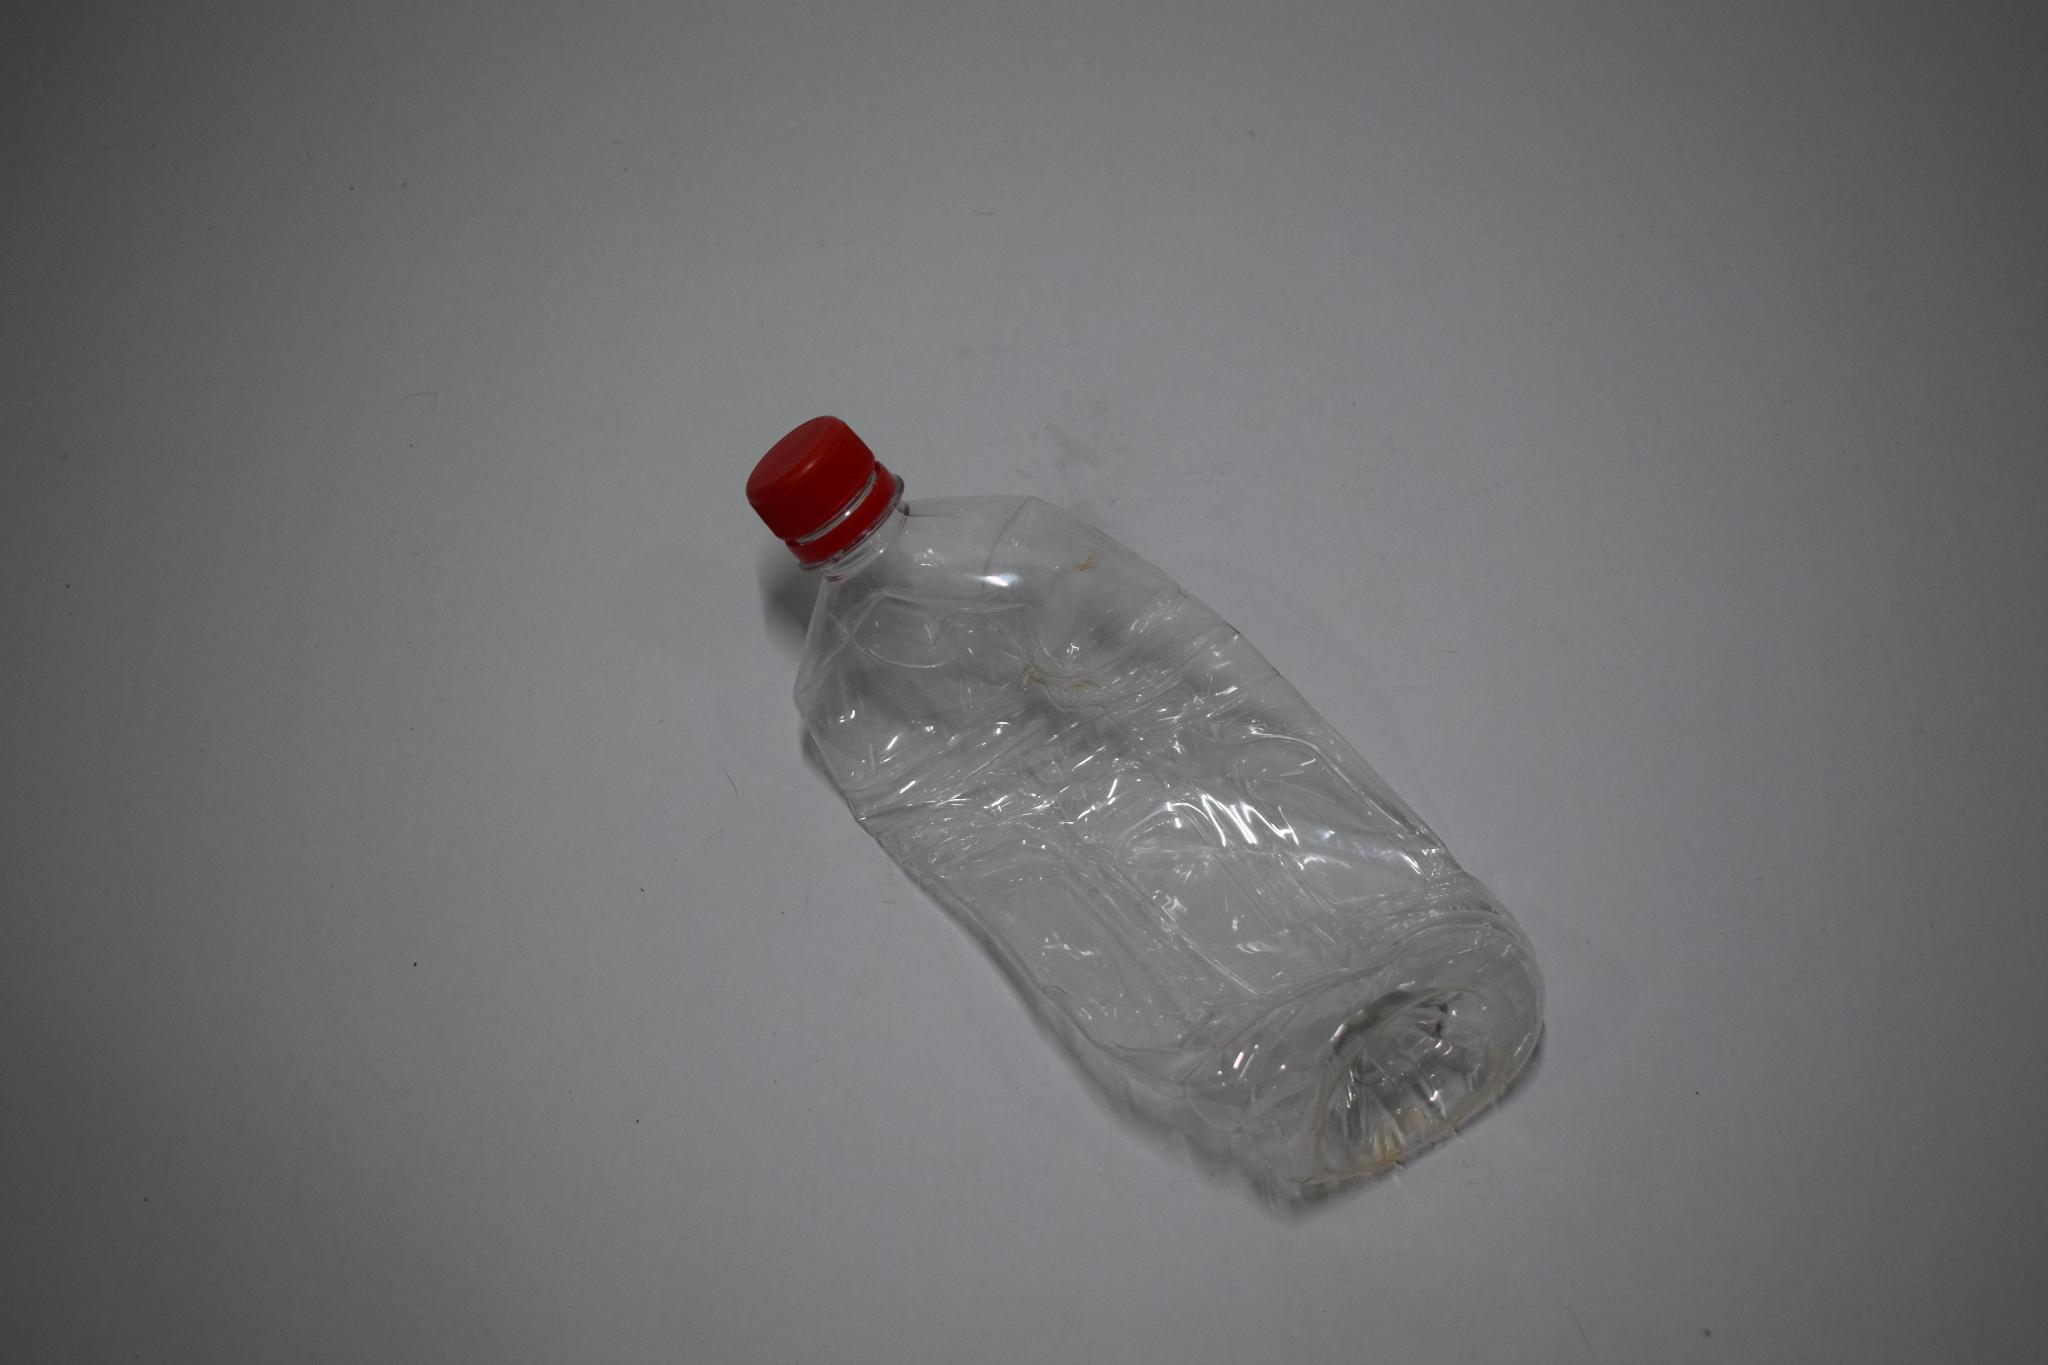bottle: (691, 400, 1613, 1232)
